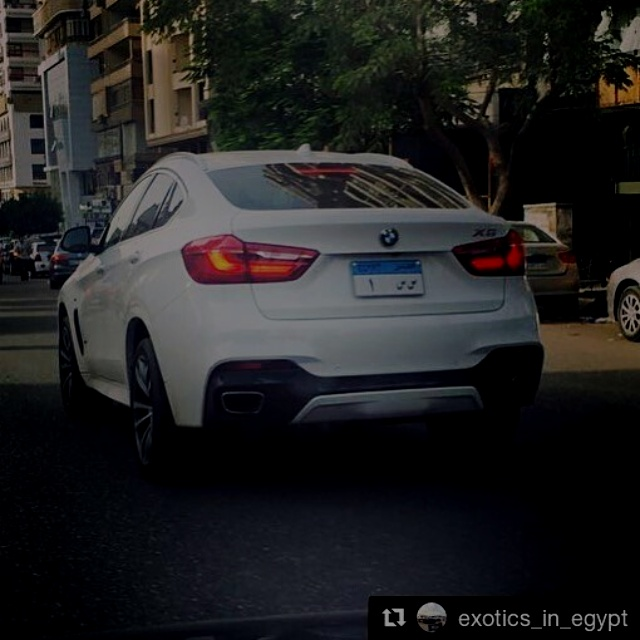License Plate: (348, 255, 428, 300)
